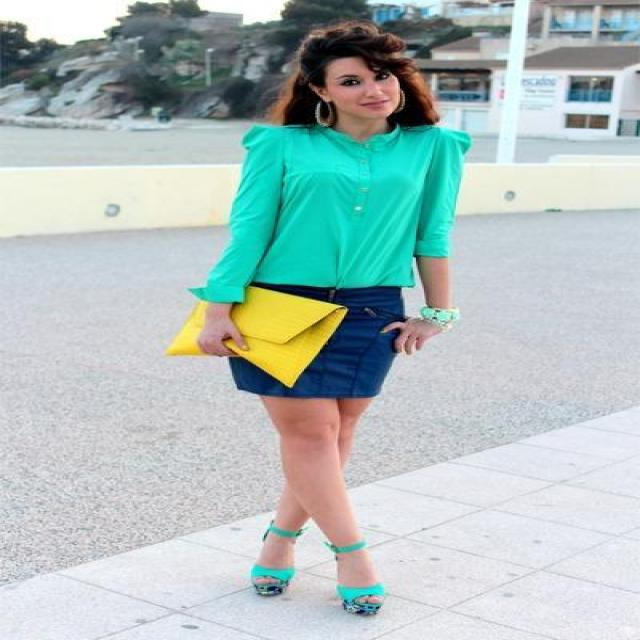bag: (166, 287, 348, 387)
shirt: (190, 124, 469, 302)
shoe: (252, 566, 382, 616)
skirt: (229, 285, 408, 403)
sunglass: (229, 279, 286, 317)
